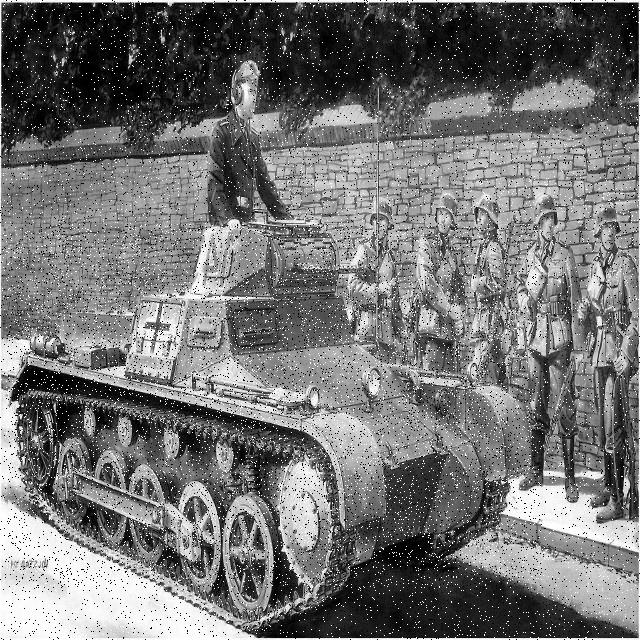MIL_MBT: (8, 225, 541, 588)
